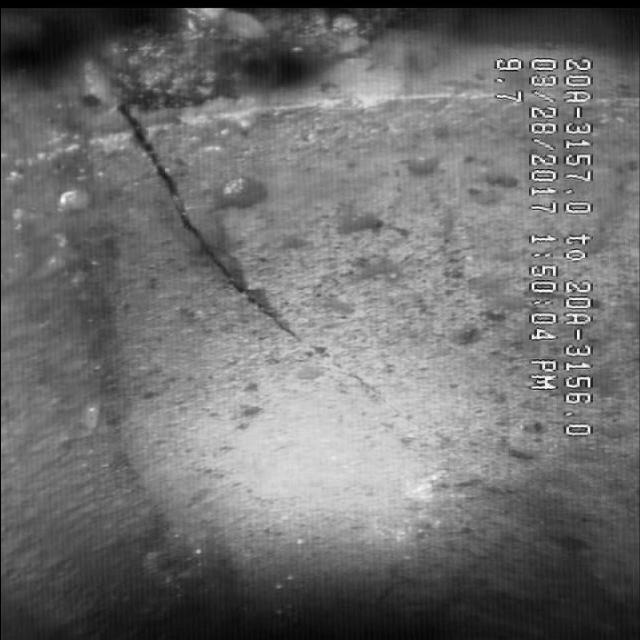Crack: (110, 160, 423, 446)
